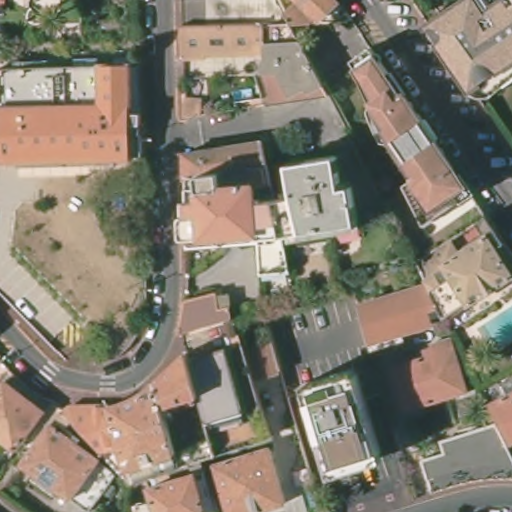pool: (476, 302, 512, 349), (228, 86, 256, 104)
